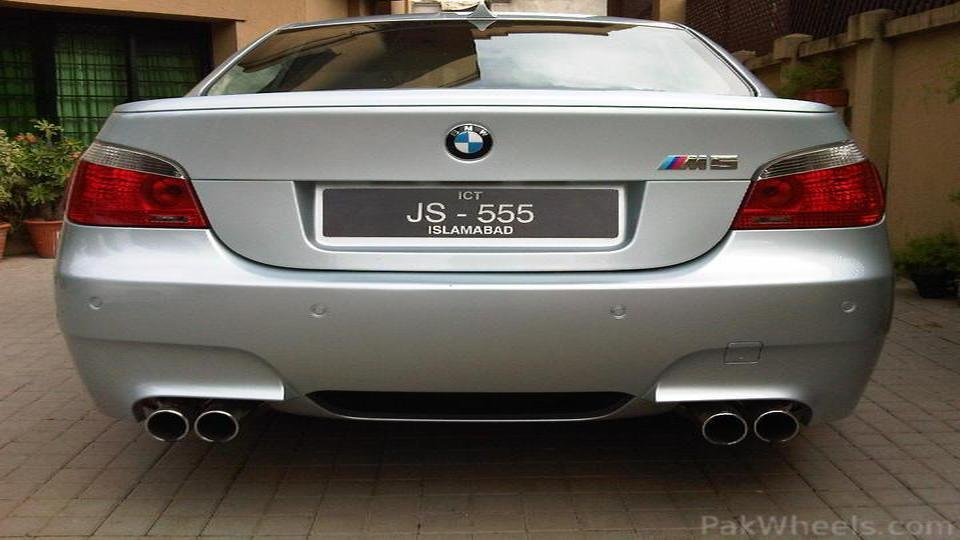NumberPlate: (323, 180, 636, 242)
